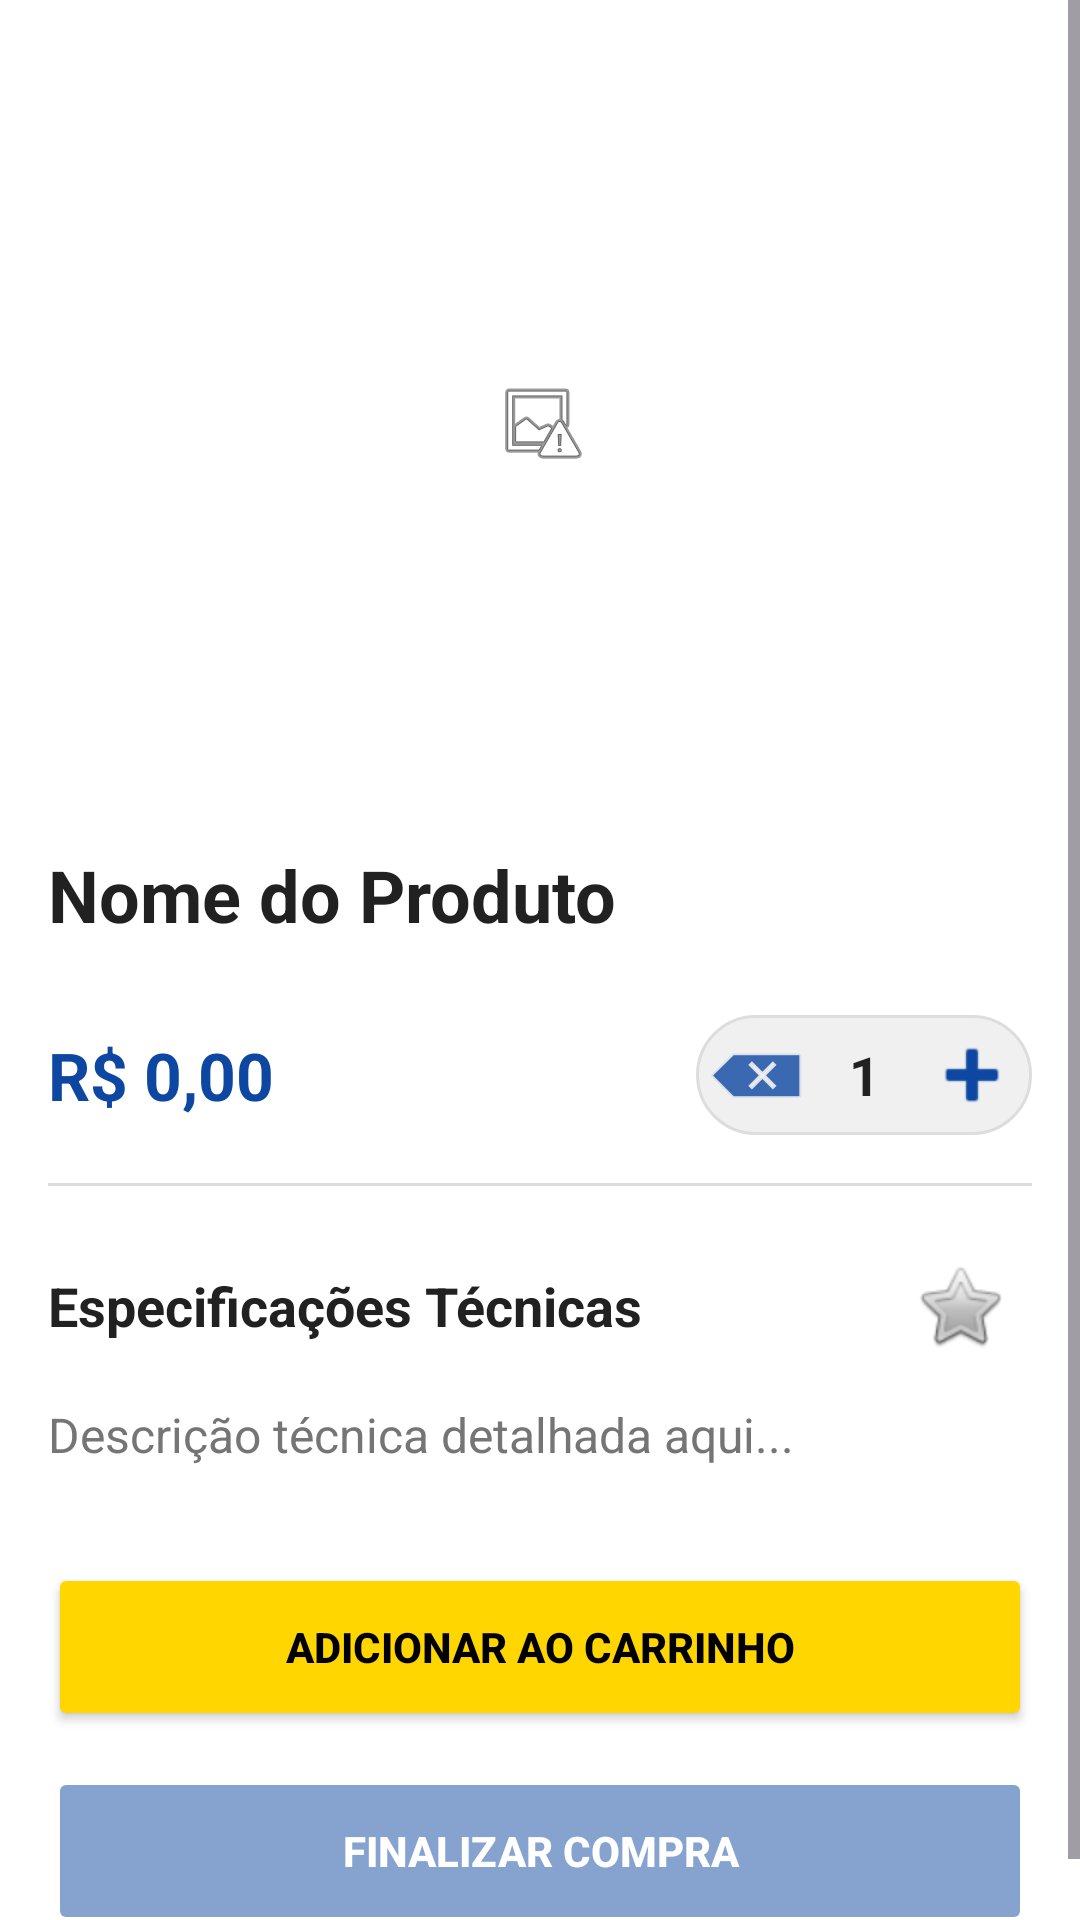

Where icons sit on this 1080*1920 app screen, as (x1, y1, x2, y2):
add: (945, 1048, 999, 1102)
delete: (713, 1055, 800, 1097)
star off: (921, 1268, 1001, 1346)
